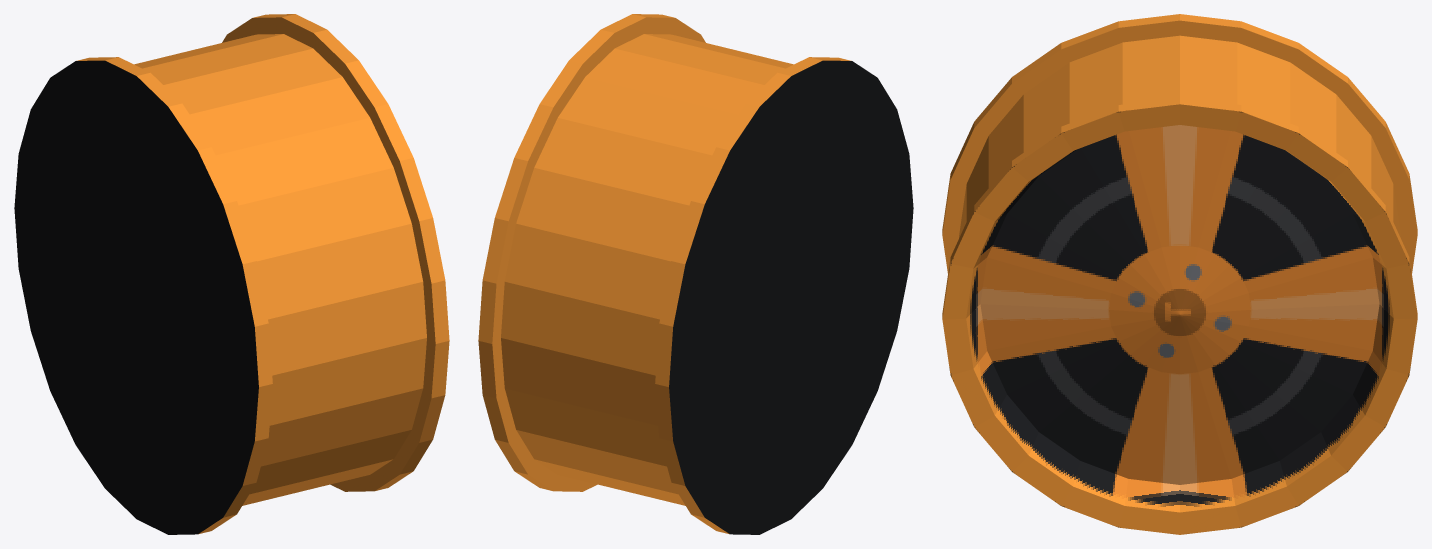
The model's file is tiziu_cruzeta_15.glb.
The picture shows the model from 3 angles, left to right: view 1: azimuth 30°, elevation 25°; view 2: azimuth 150°, elevation 25°; view 3: azimuth 270°, elevation 25°; orthographic projection. The views are drawn at different scales.
Parts seen in each view (by area): view 1: tiziu_cruzeta_15; view 2: tiziu_cruzeta_15; view 3: tiziu_cruzeta_15.
Part boxes in pixels (box(x1,y1,x2,y2)): tiziu_cruzeta_15: box(14, 14, 449, 534); tiziu_cruzeta_15: box(478, 14, 913, 534); tiziu_cruzeta_15: box(942, 14, 1417, 534).
Size of the model in its own units: 0.192 by 0.4267 by 0.4267.
1 material, 1 textured.
